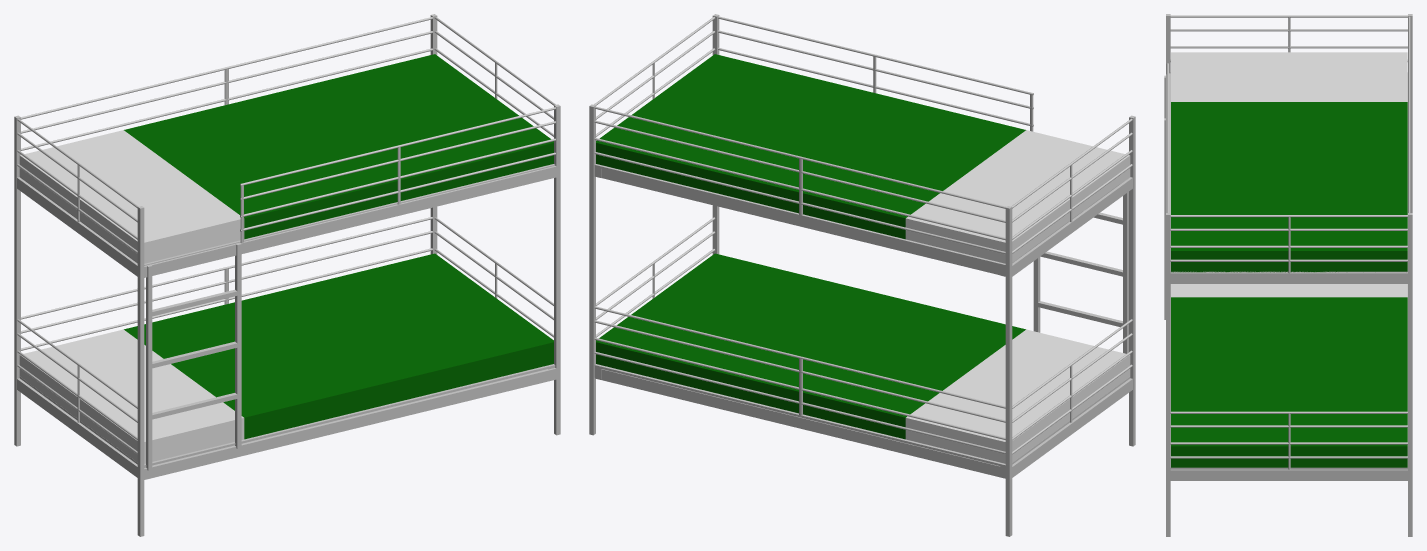
The model's file is Bunkbed.fbx.
3 views of the same model, side by side, from view 1: azimuth 30°, elevation 25°; view 2: azimuth 150°, elevation 25°; view 3: azimuth 270°, elevation 25° (orthographic). The views are drawn at different scales.
Visible parts, largest first — view 1: Cube.014, Cube.006, Cube, Cube.001, Cube.002, Cube.005, Cube.003; view 2: Cube.014, Cube.006, Cube, Cube.001; view 3: Cube.014, Cube.006, Cube, Cube.002.
Boxes of the visible parts, <box> form: Cube.014: <box>19,54,553,263</box>; Cube.006: <box>19,253,553,463</box>; Cube: <box>14,14,560,536</box>; Cube.001: <box>146,264,152,470</box>; Cube.002: <box>235,242,241,448</box>; Cube.005: <box>150,289,238,316</box>; Cube.003: <box>150,341,238,368</box>; Cube.014: <box>596,54,1130,263</box>; Cube.006: <box>596,253,1130,463</box>; Cube: <box>589,14,1135,536</box>; Cube.001: <box>1123,192,1128,353</box>; Cube.014: <box>1171,52,1407,272</box>; Cube.006: <box>1171,284,1407,467</box>; Cube: <box>1166,14,1412,536</box>; Cube.002: <box>1164,118,1166,319</box>.
Bounding box in the file's own units: 202 × 151 × 106.
